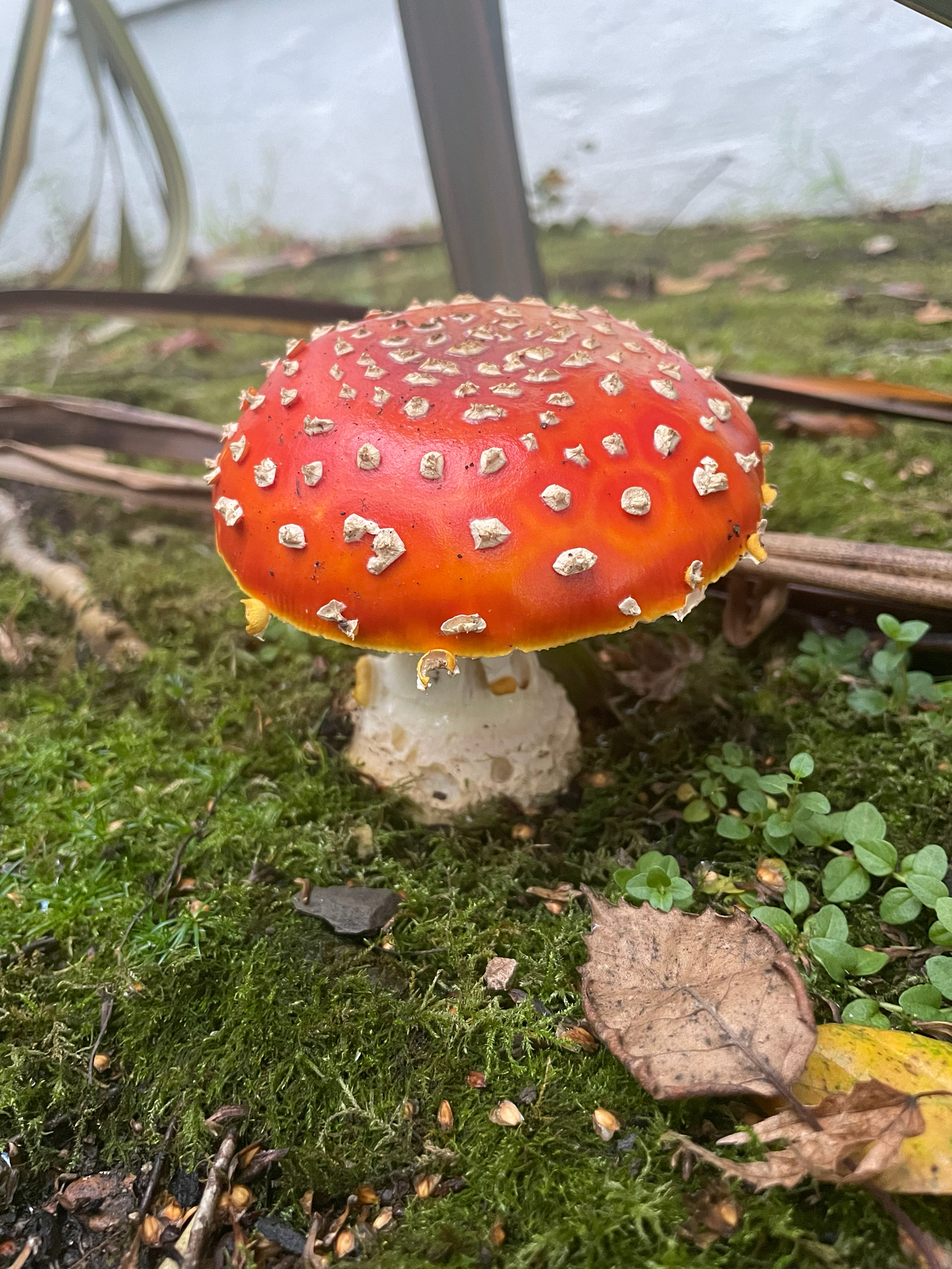cap: (213, 296, 760, 657)
stem: (348, 649, 580, 822)
